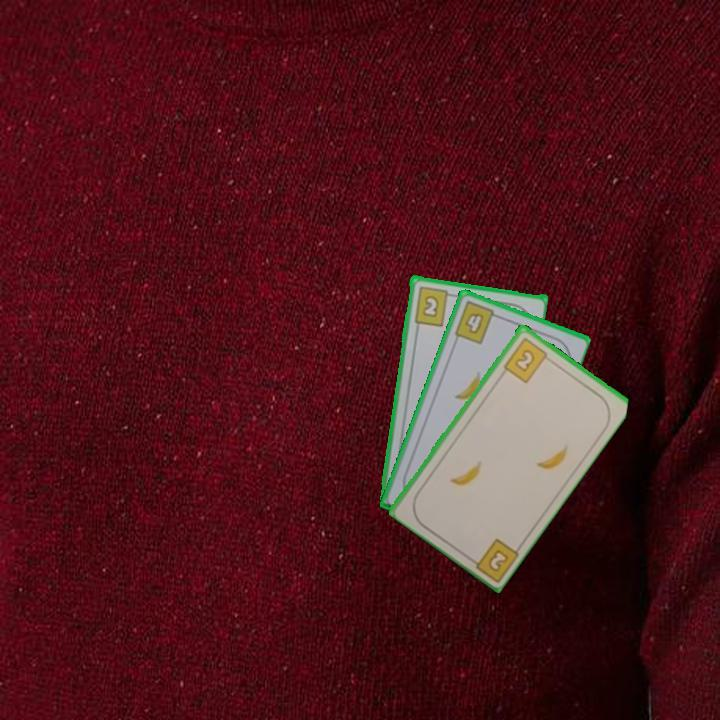2b: (464, 534, 521, 583), (500, 334, 553, 385), (410, 283, 457, 328)
4b: (451, 297, 502, 347)
